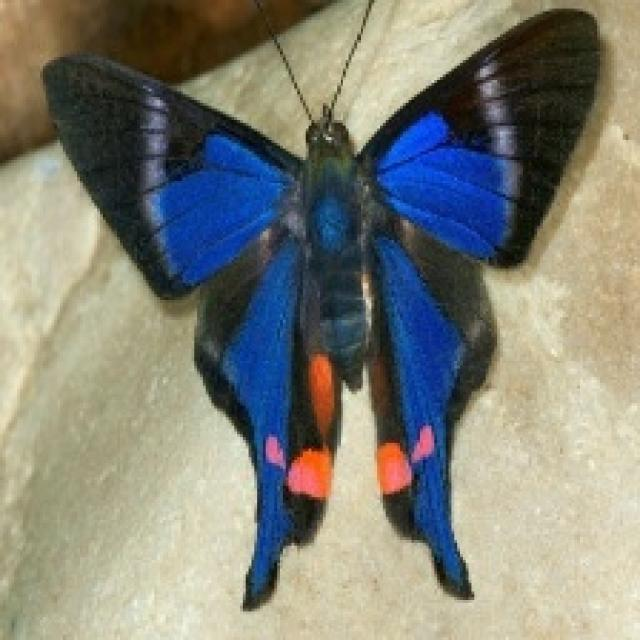butterfly: (37, 0, 602, 611)
